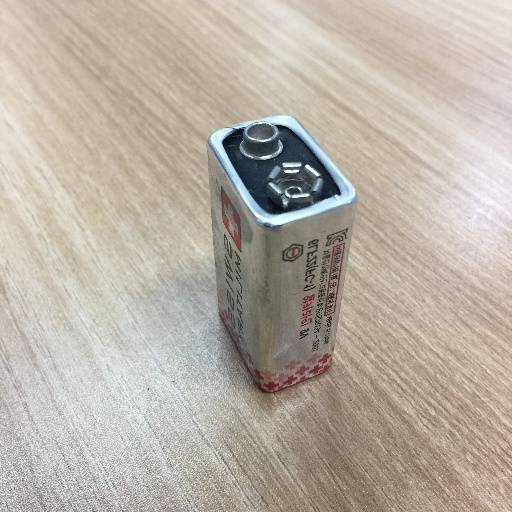Battery_3: (185, 97, 374, 407)
